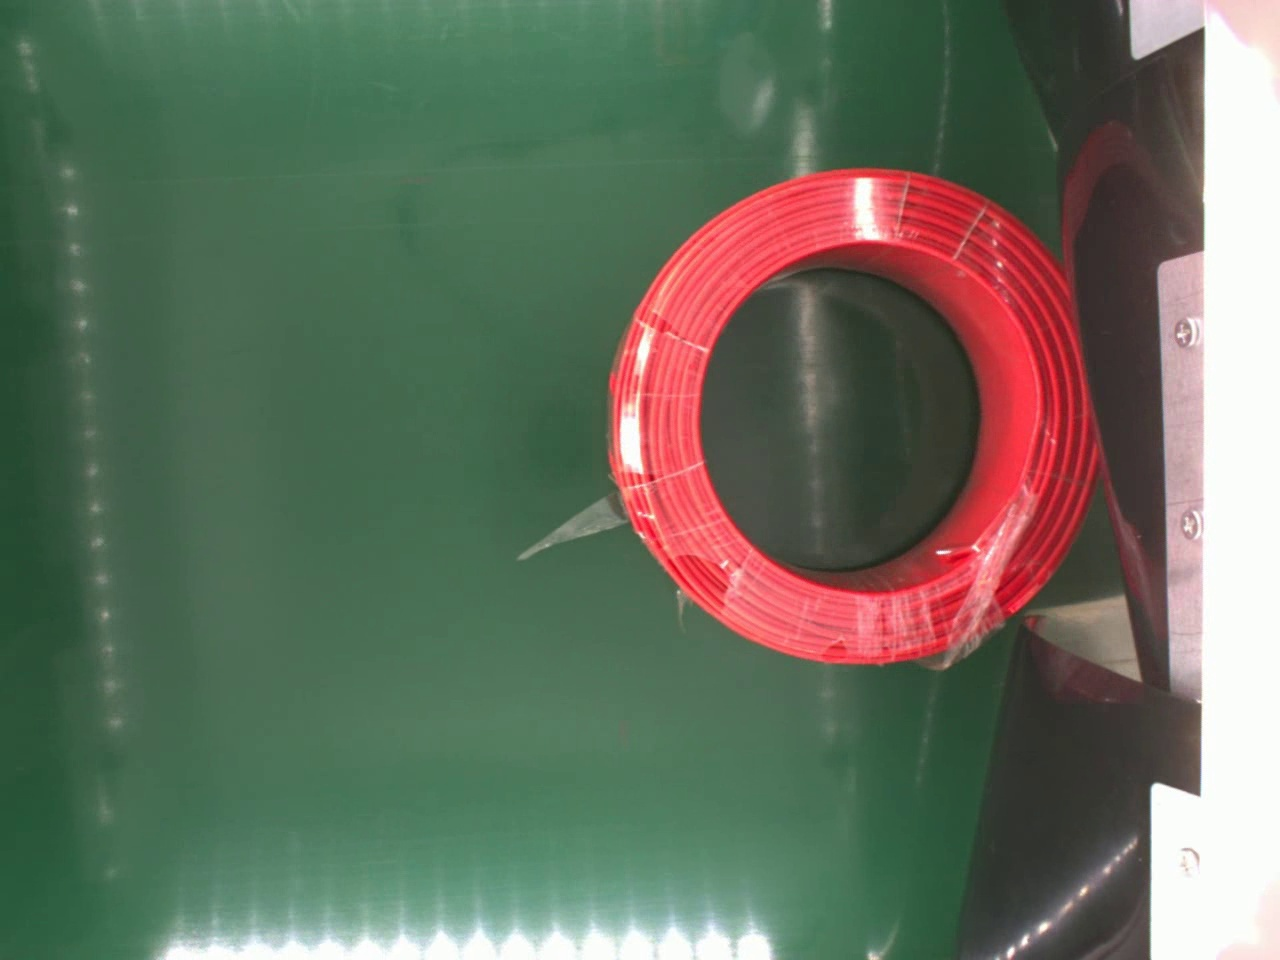red: (606, 165, 1101, 672)
